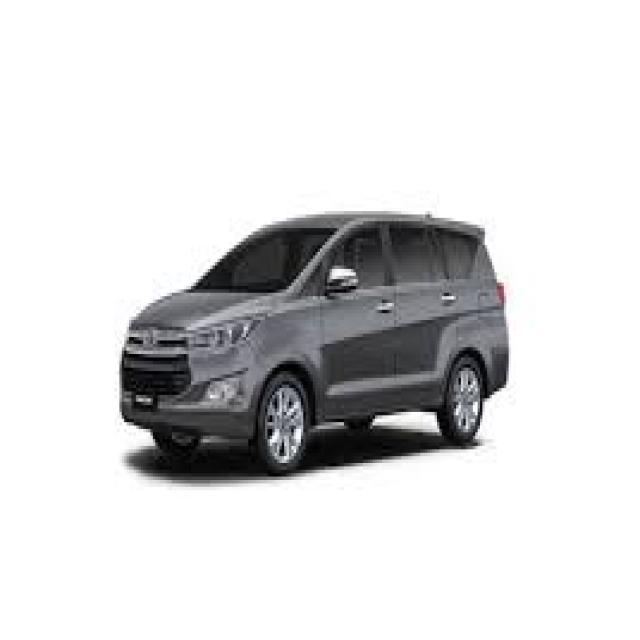light_vehicle: (117, 209, 510, 480)
